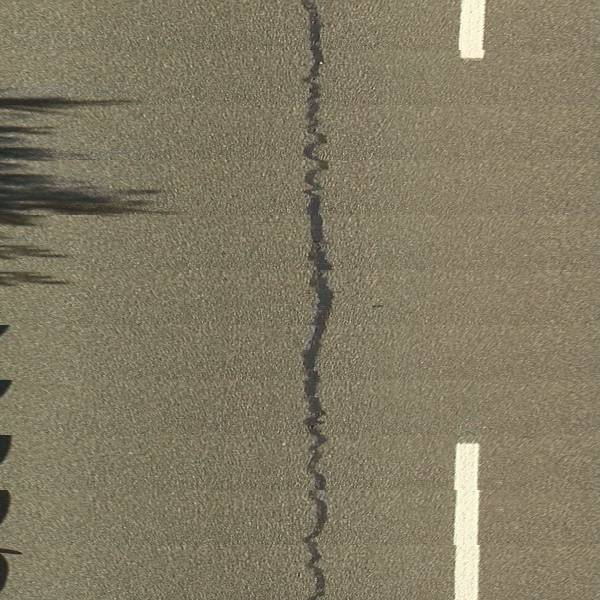road_damage: (292, 1, 340, 600)
